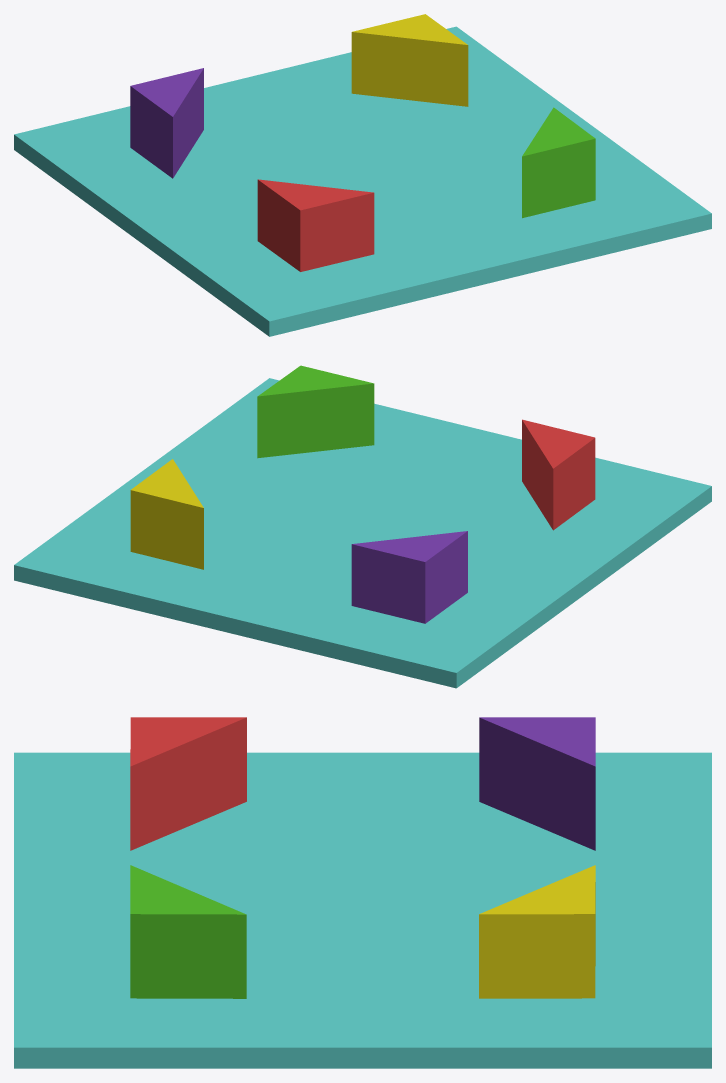
The model's file is backGround.fbx.
3 renders of one model, top to bottom at view 1: azimuth 30°, elevation 25°; view 2: azimuth 150°, elevation 25°; view 3: azimuth 270°, elevation 25°, orthographic. The views are drawn at different scales.
Parts seen in each view (by area): view 1: Box001, Prism003, Prism004, Prism001, Prism002; view 2: Box001, Prism001, Prism002, Prism004, Prism003; view 3: Box001, Prism003, Prism002, Prism004, Prism001.
Boxes of the visible parts, <box> form: Box001: <box>14,26,711,336</box>; Prism003: <box>351,14,468,106</box>; Prism004: <box>257,179,374,271</box>; Prism001: <box>522,107,595,218</box>; Prism002: <box>130,68,203,178</box>; Box001: <box>14,378,711,688</box>; Prism001: <box>257,365,374,458</box>; Prism002: <box>351,531,467,623</box>; Prism004: <box>522,419,595,530</box>; Prism003: <box>130,459,203,569</box>; Box001: <box>14,752,711,1068</box>; Prism003: <box>479,865,595,998</box>; Prism002: <box>479,717,595,850</box>; Prism004: <box>130,717,246,850</box>; Prism001: <box>130,865,246,998</box>.
Bounding box in the file's own units: 300 × 50 × 300.
